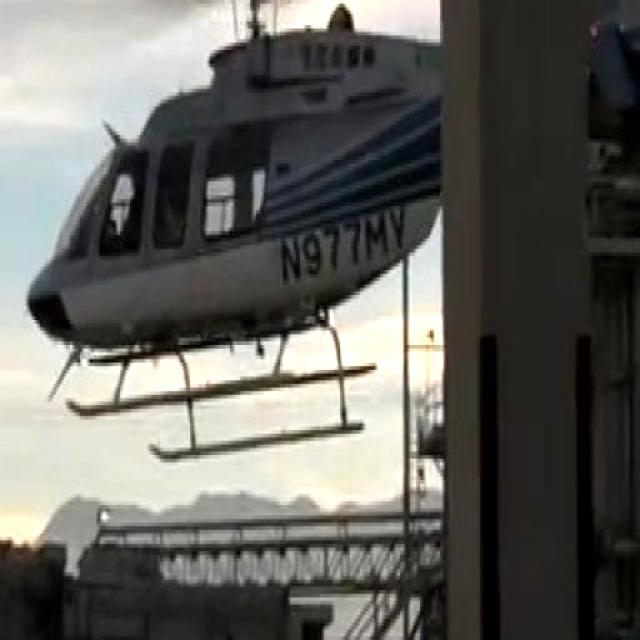drone: (2, 0, 439, 469)
